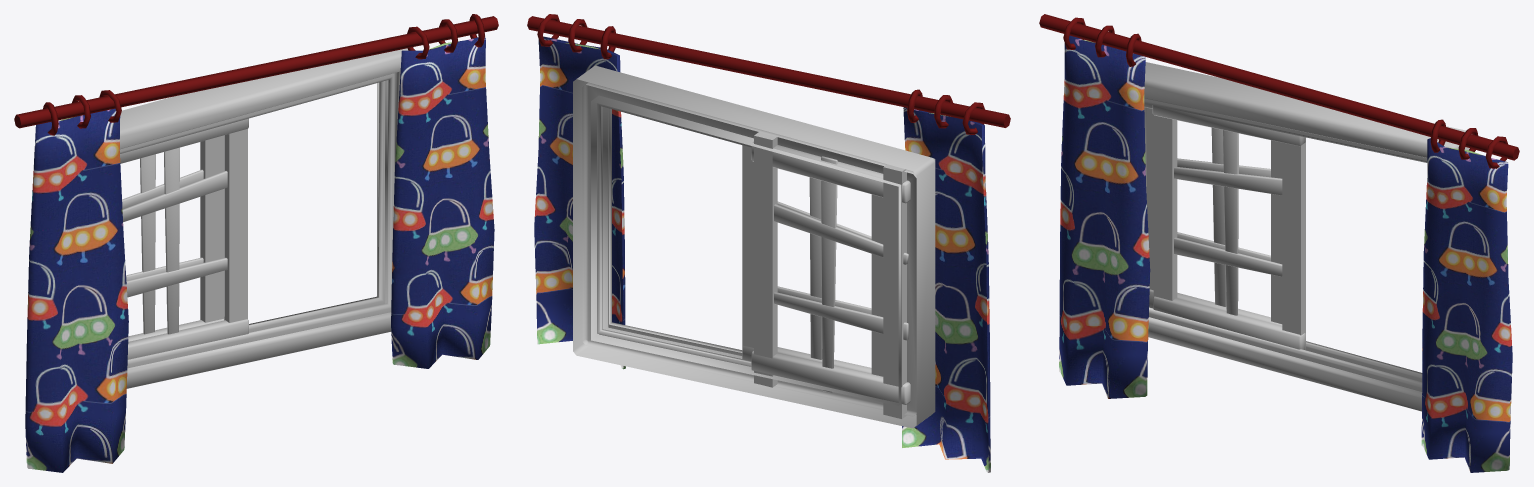
Rendered from windowOpen.fbx.
3 views of the same model, side by side, from view 1: azimuth 30°, elevation 25°; view 2: azimuth 150°, elevation 25°; view 3: azimuth 330°, elevation 25° (orthographic).
Parts seen in each view (by area): view 1: windowOpen; view 2: windowOpen; view 3: windowOpen.
Part boxes in pixels (left/top/right/bottom): windowOpen: left=14, top=14, right=498, bottom=472; windowOpen: left=527, top=14, right=1010, bottom=472; windowOpen: left=1039, top=14, right=1519, bottom=472.
Bounding box in the file's own units: 9.77 × 7.11 × 1.54.
